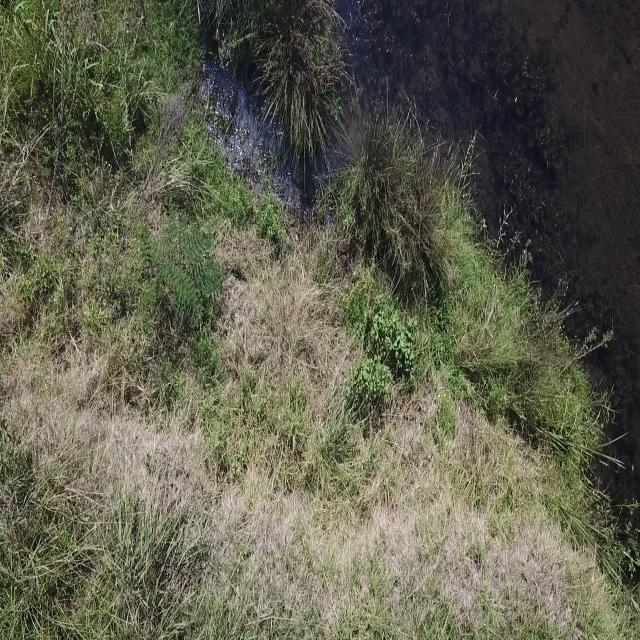Mysore-Thorn-Weed: (131, 204, 222, 330)
